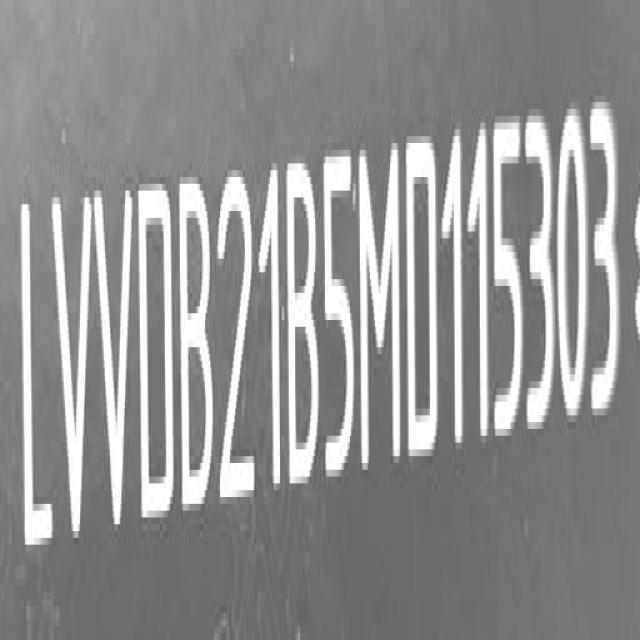0: (555, 102, 588, 436)
1: (260, 160, 284, 510), (464, 117, 487, 463), (441, 120, 463, 464)
2: (217, 168, 256, 522)
3: (588, 106, 620, 433), (526, 111, 556, 444)
5: (322, 141, 357, 491), (494, 113, 527, 451)
B: (182, 174, 218, 526), (286, 154, 322, 501)
D: (136, 177, 174, 534), (408, 127, 442, 470)
L: (16, 195, 52, 571)
M: (358, 133, 403, 480)
V: (50, 190, 93, 554), (96, 180, 138, 547)
